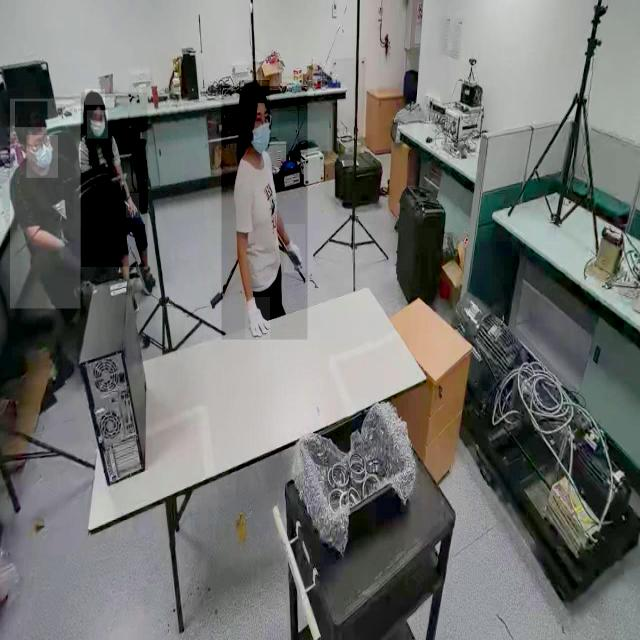face_mask: (251, 111, 278, 163), (26, 135, 58, 178), (86, 110, 108, 139)
glasses: (250, 110, 274, 130)
hand_glove: (284, 224, 306, 274), (244, 297, 270, 339)
hand_noglove: (125, 193, 139, 219)
head_nohelmet: (15, 101, 48, 128), (238, 80, 270, 104), (85, 89, 105, 106)
person: (221, 87, 307, 340), (10, 99, 80, 309), (80, 92, 148, 268)
